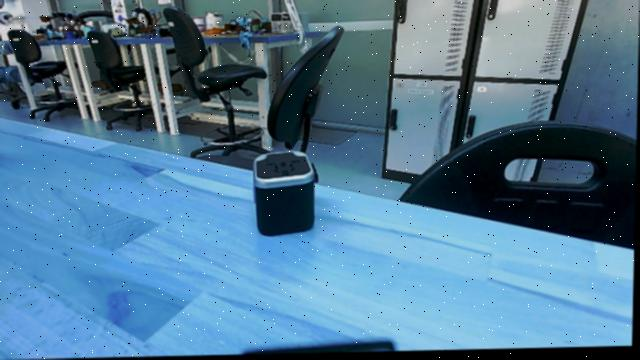adapter: (243, 147, 324, 243)
